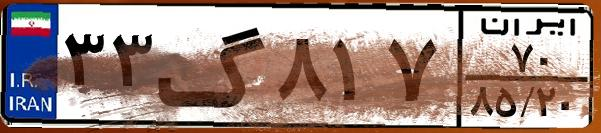0: (560, 70, 590, 125), (537, 27, 568, 80)
1: (330, 28, 385, 110)
2: (535, 70, 560, 125)
3: (57, 26, 110, 100), (110, 28, 156, 98)
5: (495, 70, 520, 125)
7: (385, 28, 445, 110), (508, 27, 537, 80)
8: (270, 28, 330, 110), (470, 70, 495, 125)
گ: (156, 12, 270, 120)
